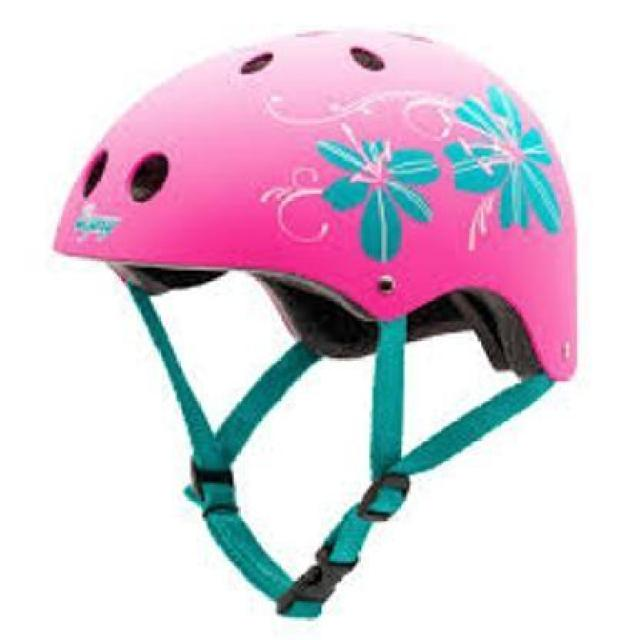not trash: (46, 18, 596, 617)
